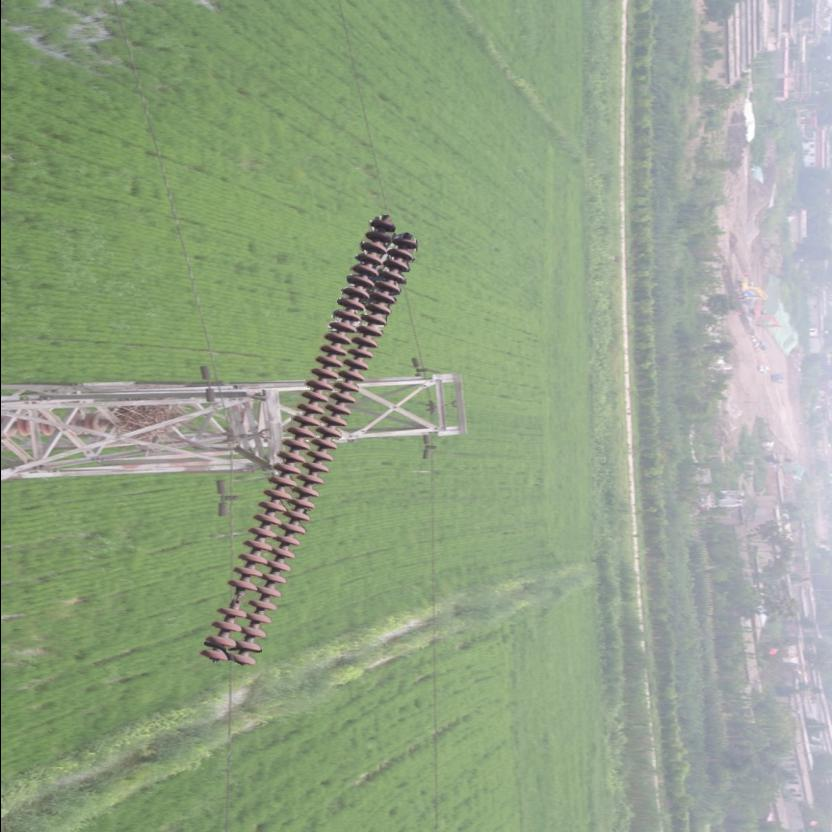defect: (214, 574, 258, 622)
